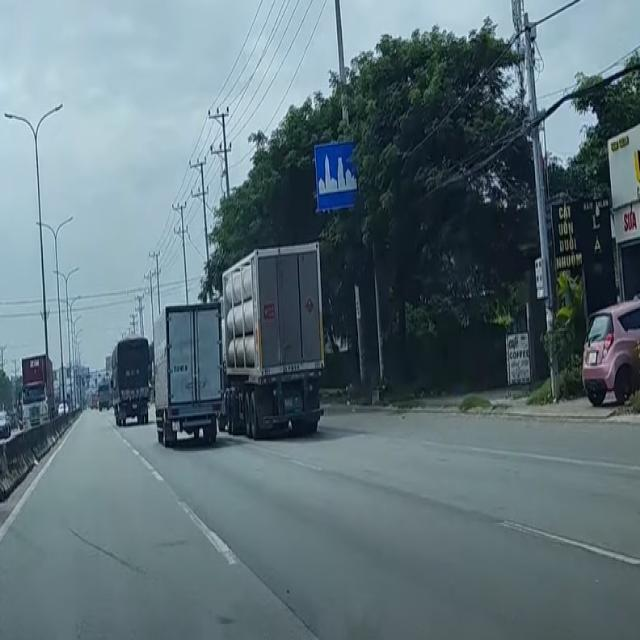Bien hieu lenh bat dau khu dong dan cu: (312, 139, 365, 213)
